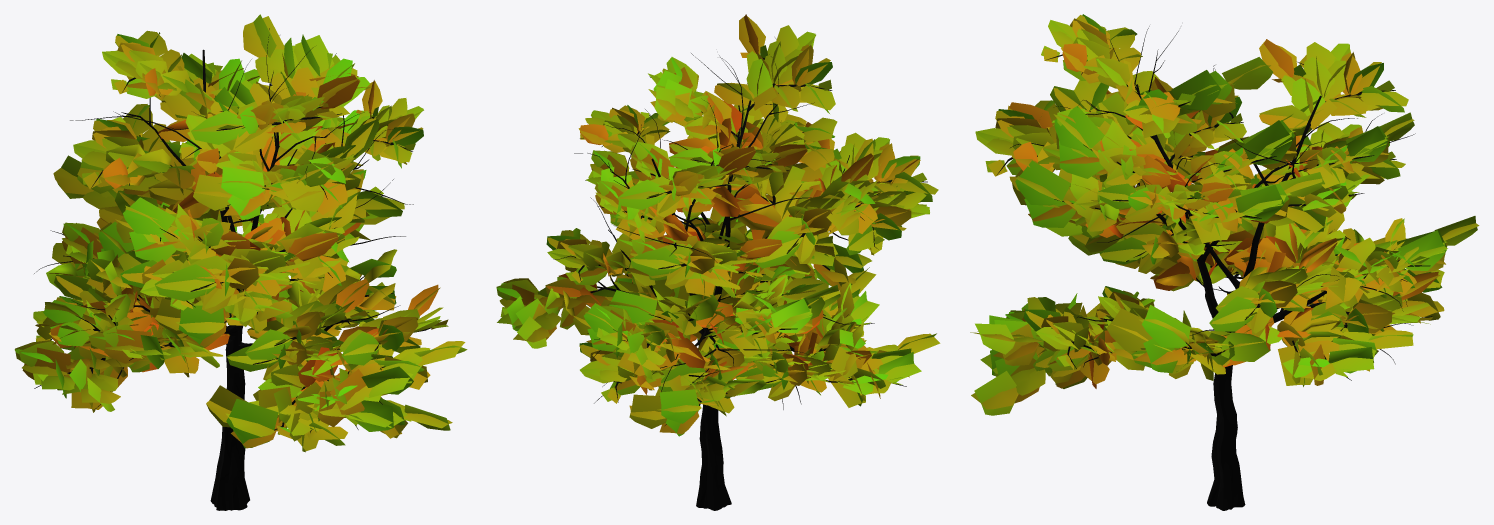
The model's file is Tree_big_2.glb.
3 views of the same model, side by side, from view 1: azimuth 30°, elevation 25°; view 2: azimuth 150°, elevation 25°; view 3: azimuth 270°, elevation 25° (orthographic). The views are drawn at different scales.
Parts seen in each view (by area): view 1: Tree big 2; view 2: Tree big 2; view 3: Tree big 2.
Part boxes in pixels (bbox=[...]): Tree big 2: bbox=[14, 14, 467, 510]; Tree big 2: bbox=[496, 14, 940, 510]; Tree big 2: bbox=[970, 14, 1479, 510].
Bounding box in the file's own units: 62.65 × 70.75 × 66.87.
